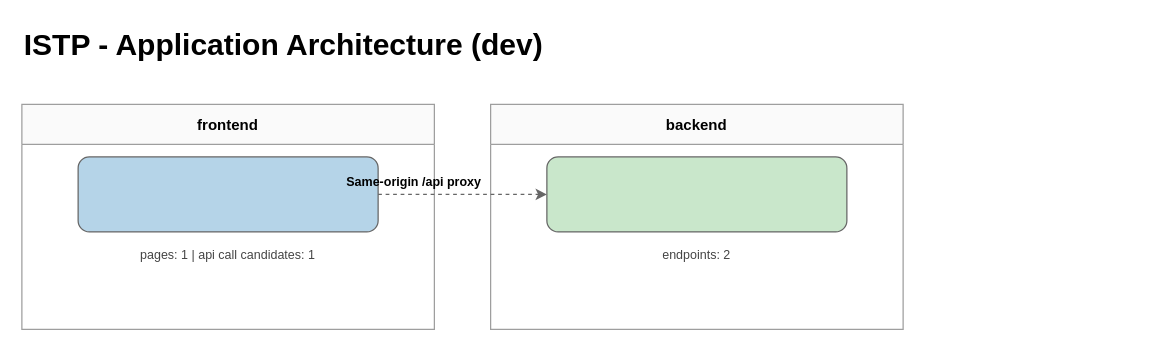
The diagram is 1169 pixels wide and 351 high, and some of its shapes have lost their labels. Here are the shapes that lost their labels. From the top down, the centre of each, then its label:
At point (227, 194): "Infrastructure Test UI".
At point (696, 194): "ASP.NET Core API".
